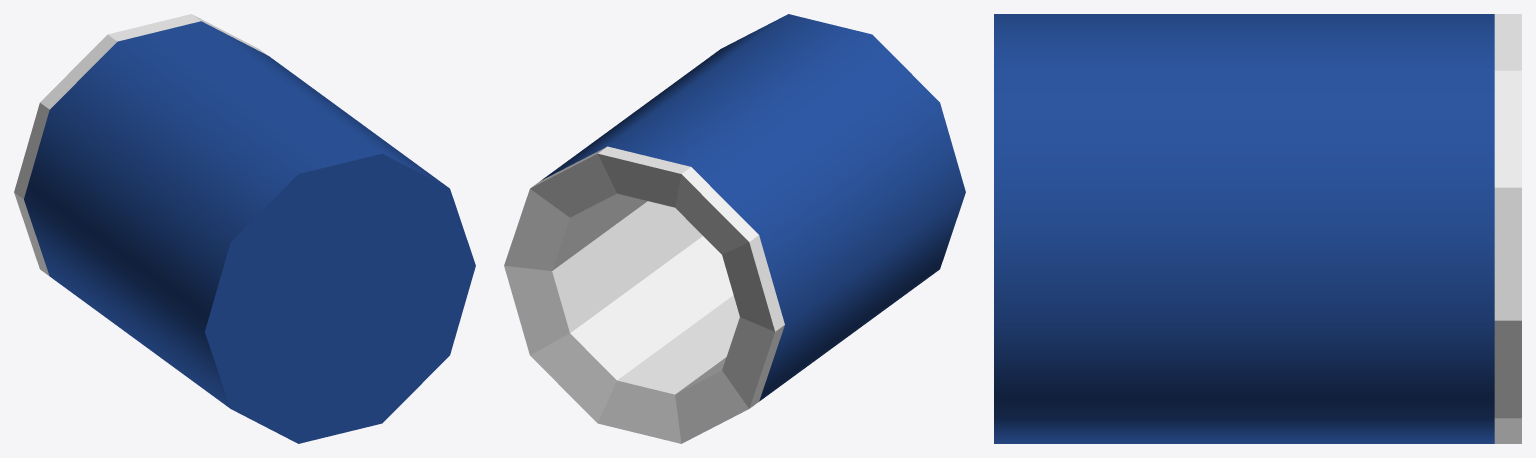
Rendered from TrashCan.fbx.
3 renders of one model, left to right at view 1: azimuth 30°, elevation 25°; view 2: azimuth 150°, elevation 25°; view 3: azimuth 270°, elevation 25°, orthographic. The views are drawn at different scales.
Visible parts, largest first — view 1: Cylinder001; view 2: Cylinder001; view 3: Cylinder001.
Part boxes in pixels (x1,y1,x2,y2): Cylinder001: (14, 14, 475, 443); Cylinder001: (504, 14, 965, 443); Cylinder001: (994, 14, 1521, 443).
Size of the model in its own units: 40 by 38.04 by 48.74.
1 material, 1 textured.
